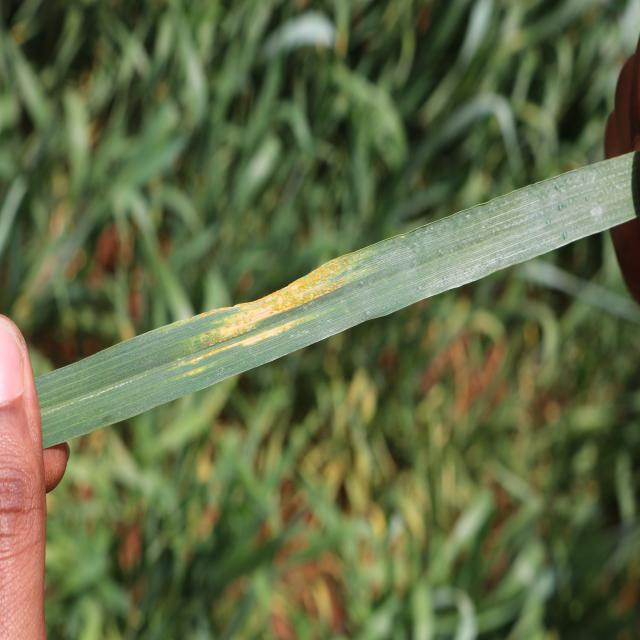Stripe Rust: (208, 244, 374, 358)
